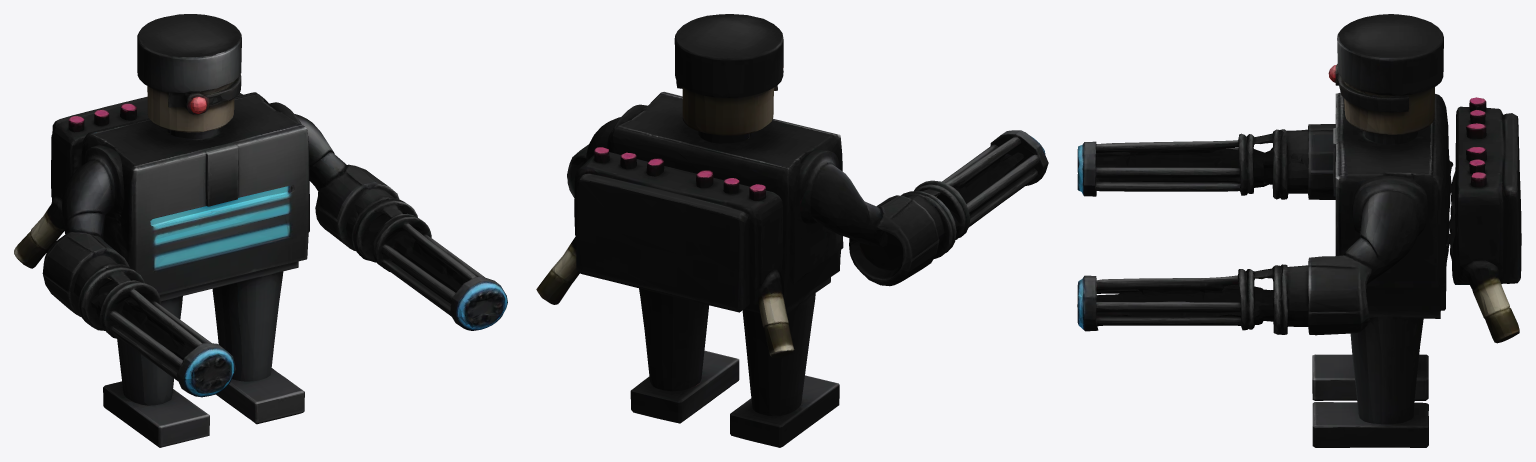
The model's file is twinbarrel.glb.
3 views of the same model, side by side, from view 1: azimuth 30°, elevation 25°; view 2: azimuth 150°, elevation 25°; view 3: azimuth 270°, elevation 25° (orthographic). The views are drawn at different scales.
Parts seen in each view (by area): view 1: world; view 2: world; view 3: world.
Part boxes in pixels (x1,y1,x2,y2): world: (14,14,507,447); world: (536,14,1048,447); world: (1077,14,1521,447).
Bounding box in the file's own units: 0.8897 × 0.9304 × 0.9998.
1 material, 1 textured.
